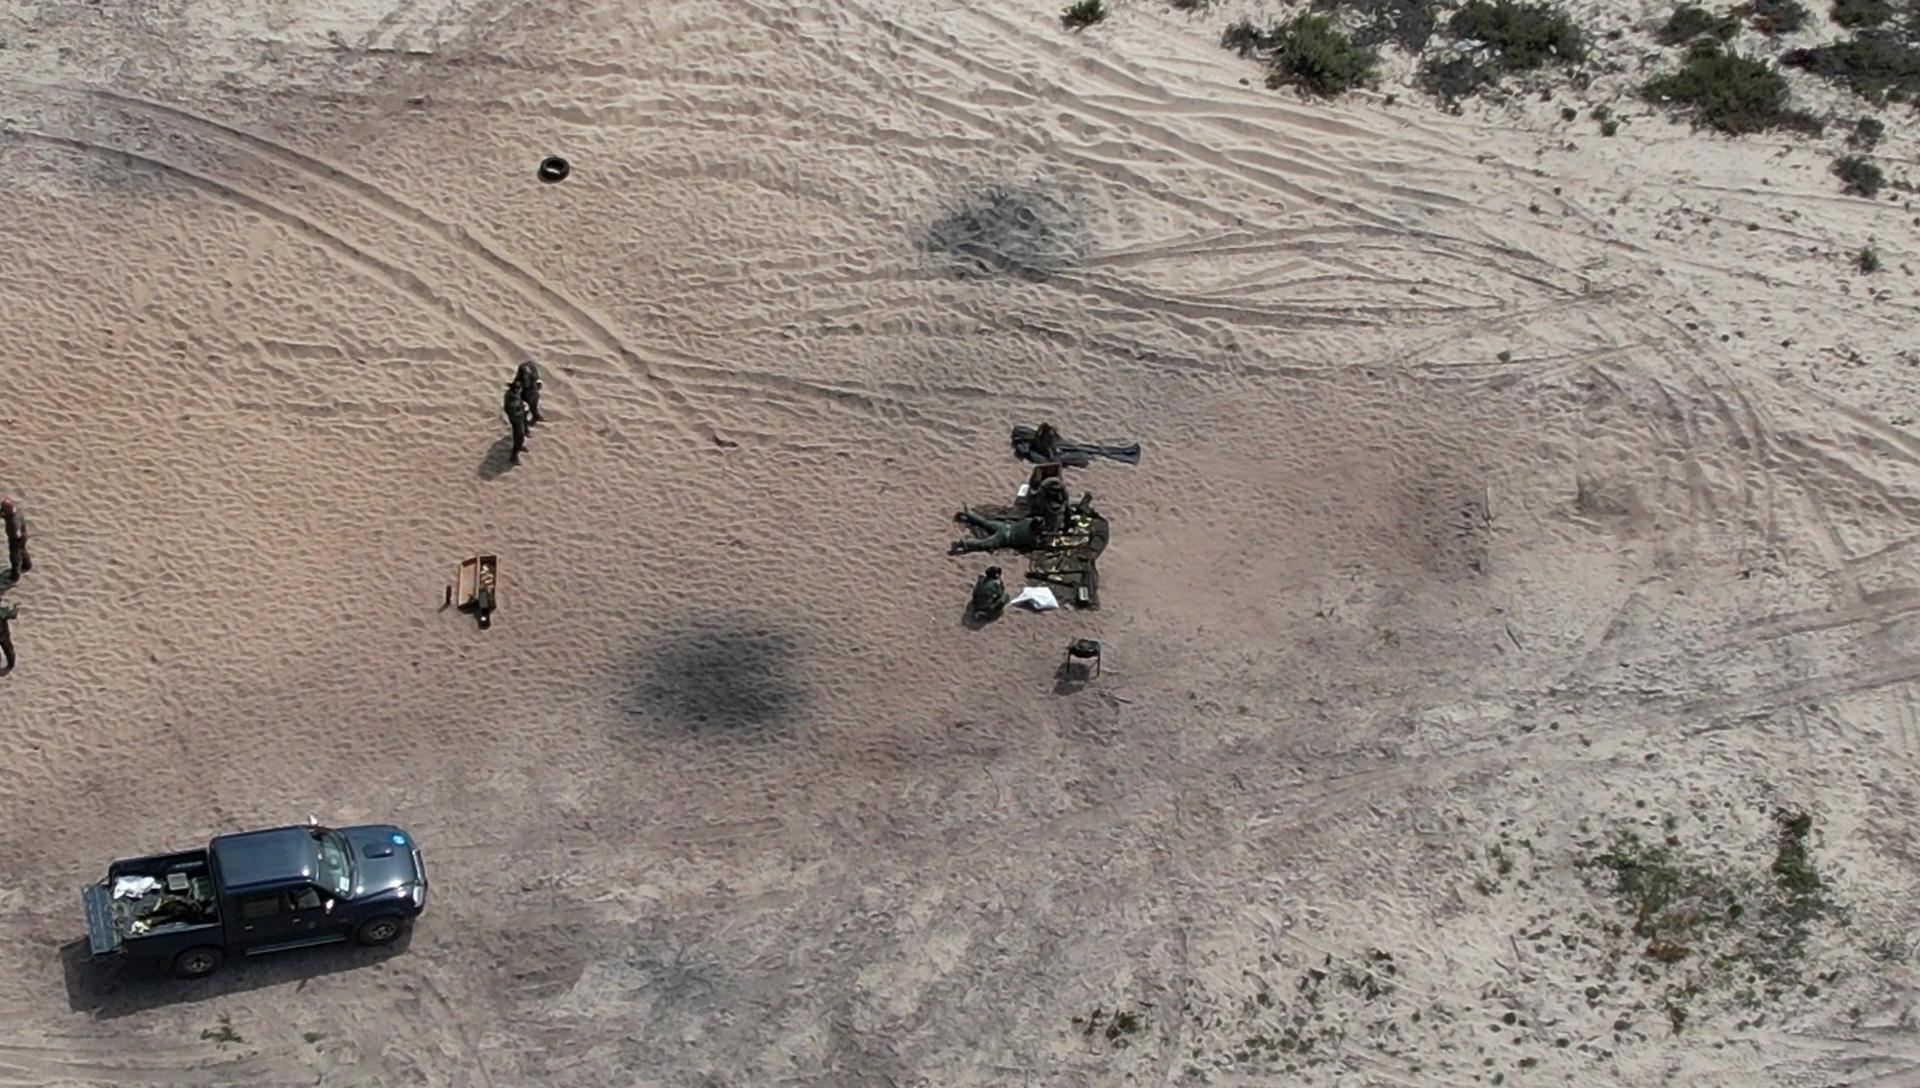Soldier: (947, 499, 1051, 557), (957, 557, 1010, 630), (497, 377, 541, 466), (1026, 458, 1071, 518), (516, 349, 555, 415)
